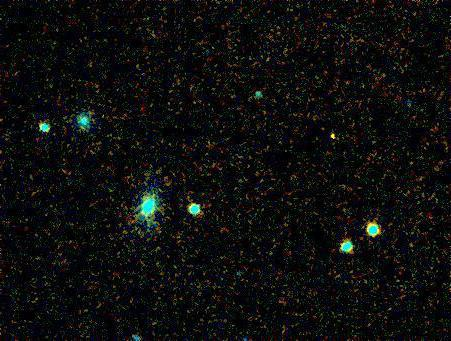star: (317, 122, 347, 152)
